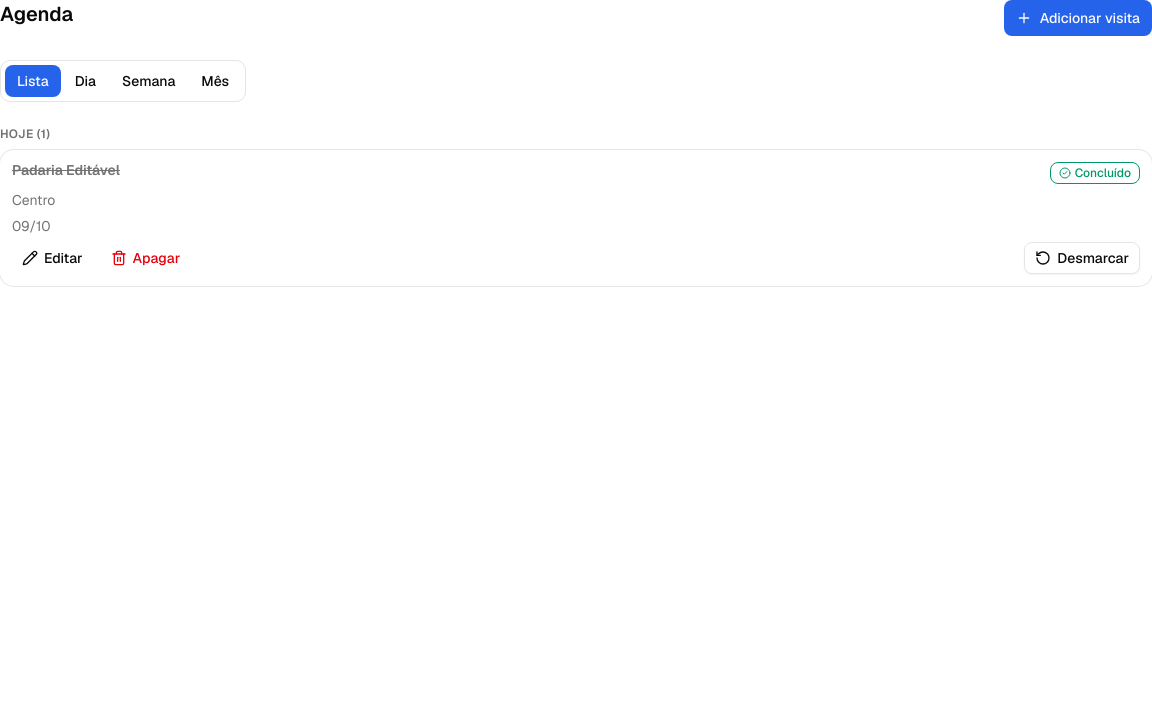
Test: Agenda2List › editar-concluido (AGD2-03/D-06): Editar num concluído abre Editar item com o nome preenchido
Expected: the text "Padaria Editável" is shown, 12,161 -> 120,179
Click the button "Editar".
click(52, 258)  # box 12,242 -> 93,274
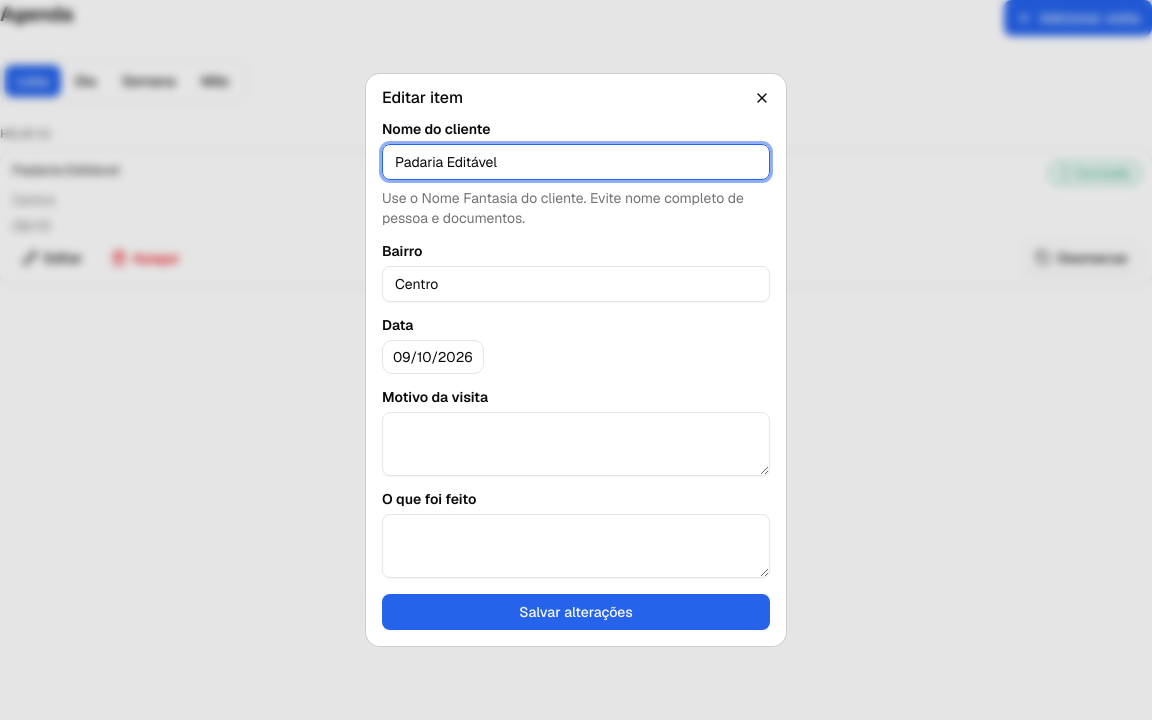
Expected: the heading "Editar item" is shown, 382,87 -> 463,108
Expected: the field labelled "Nome do cliente" holds "Padaria Editável", 382,144 -> 770,180
